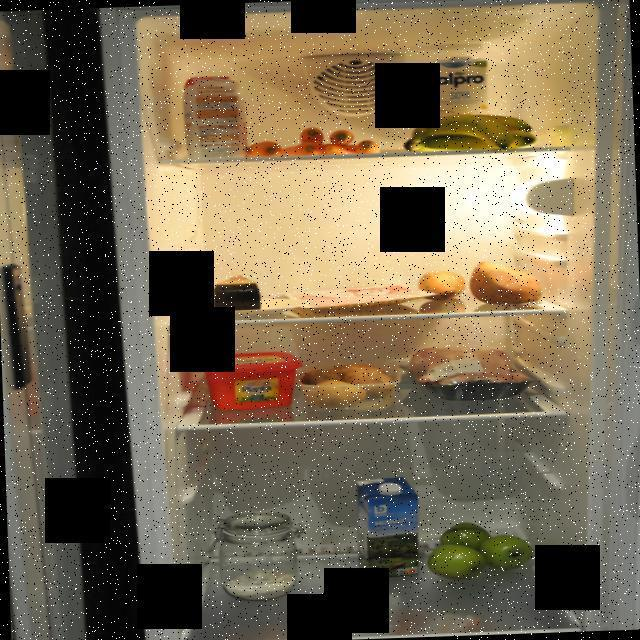Apple: (426, 518, 536, 582)
Banana: (402, 112, 538, 154)
Carrot: (245, 120, 388, 160)
Cheese: (206, 270, 264, 314)
Chicken: (395, 340, 535, 406)
Flour: (209, 507, 305, 604)
Potato: (287, 357, 398, 409)
Sugar: (181, 74, 250, 158)
Sweet Potato: (468, 255, 544, 308), (414, 269, 466, 301)
